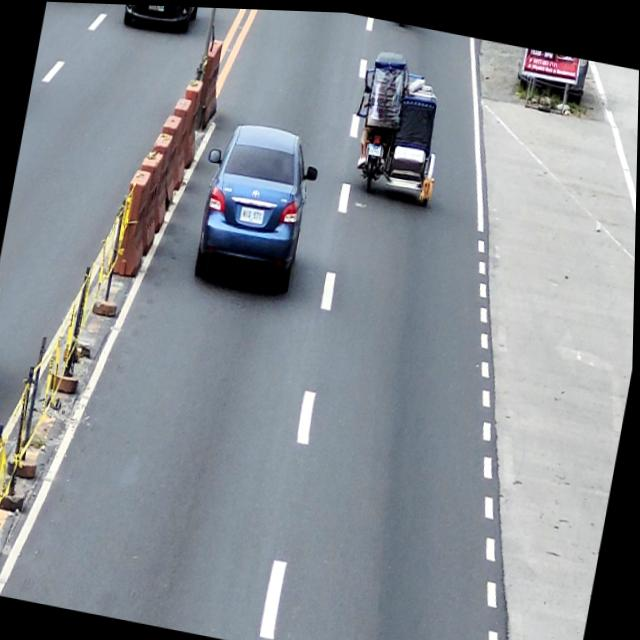Car: (189, 115, 325, 296), (121, 4, 201, 37)
License-Plate: (240, 204, 266, 224), (367, 139, 384, 156), (148, 4, 165, 12)
Tricycle: (351, 46, 456, 208)
